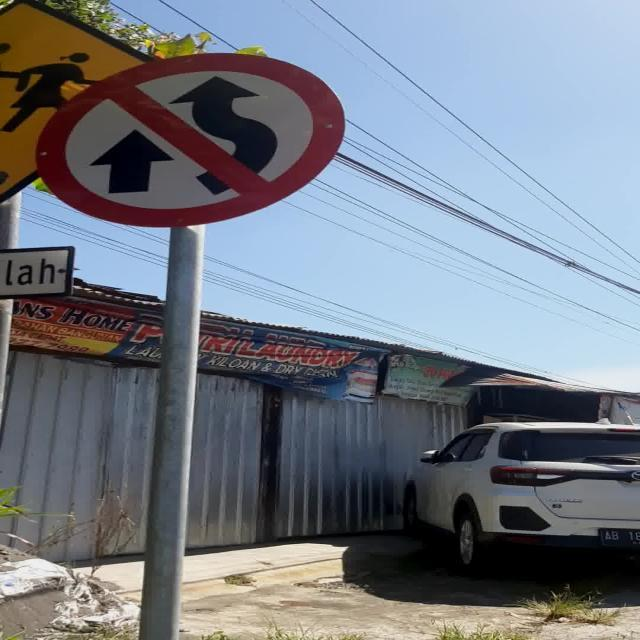Dilarang Mendahului: (34, 52, 343, 227)
